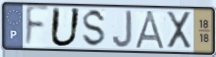A: (133, 9, 168, 51)
F: (24, 5, 51, 50)
J: (111, 9, 134, 49)
S: (80, 8, 108, 49)
U: (48, 6, 83, 49)
X: (165, 10, 193, 50)
